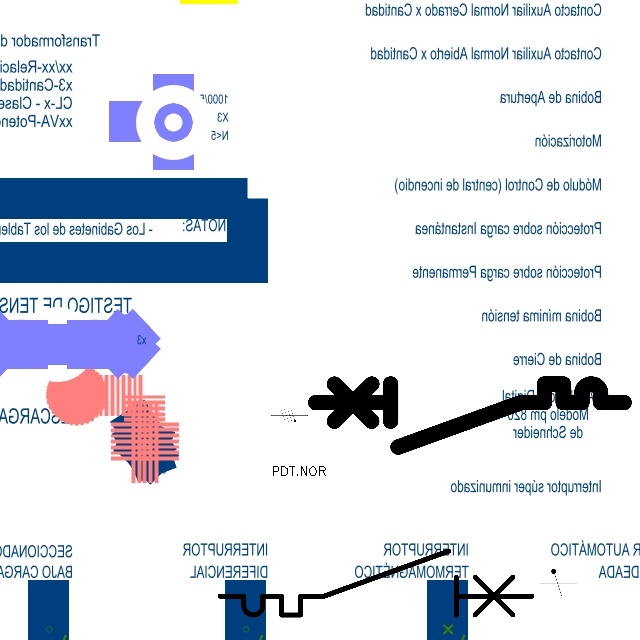interruptor_termomagnetico: (212, 543, 540, 623), (307, 376, 632, 455)
